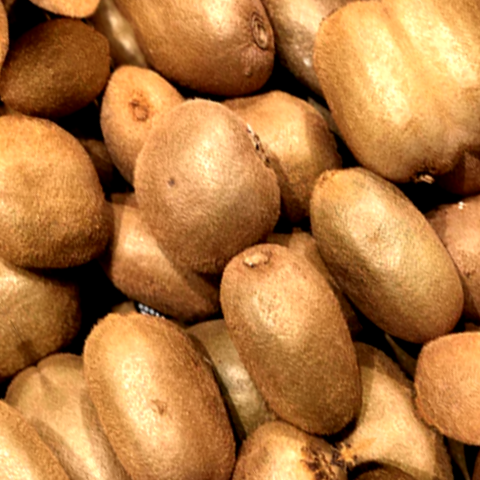kiwi: (96, 58, 337, 300), (187, 211, 405, 468), (267, 120, 480, 371), (48, 275, 277, 480), (272, 0, 466, 208), (0, 73, 147, 322)
